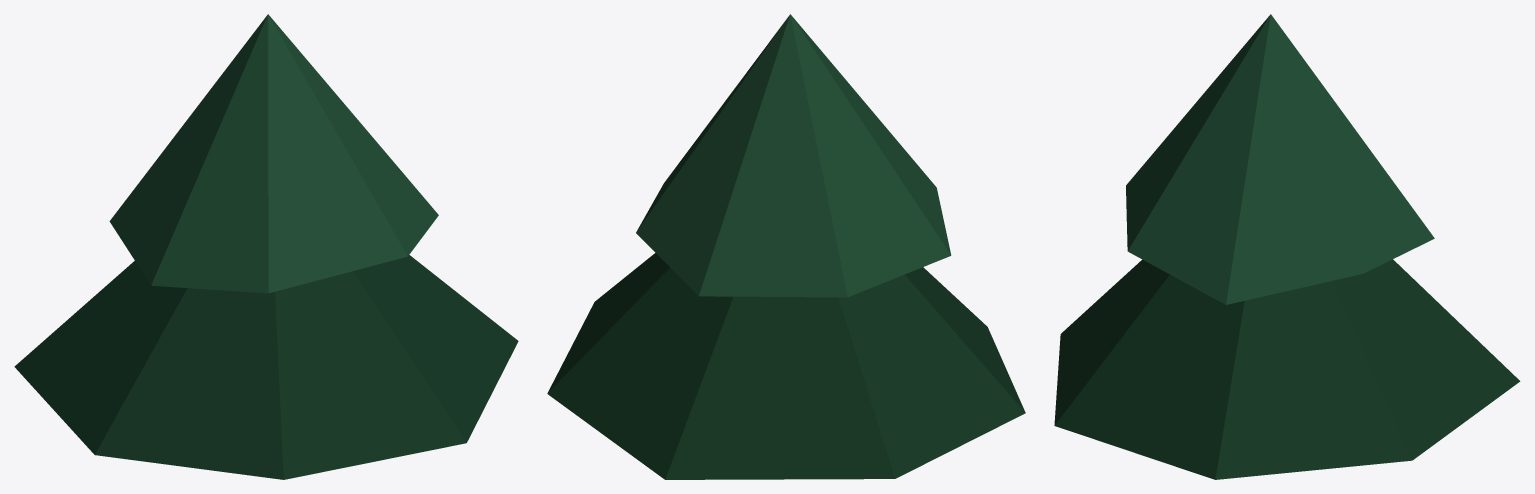
File: tree_pine_b.glb
3 views of the same model, side by side, from view 1: azimuth 30°, elevation 25°; view 2: azimuth 150°, elevation 25°; view 3: azimuth 270°, elevation 25° (orthographic).
Parts seen in each view (by area): view 1: TreePineB; view 2: TreePineB; view 3: TreePineB.
Boxes of the visible parts, x1,y1,x2,y2 form: TreePineB: [14, 14, 518, 479]; TreePineB: [547, 14, 1025, 479]; TreePineB: [1054, 14, 1520, 479].
Size of the model in its own units: 2.07 by 1.95 by 1.98.
